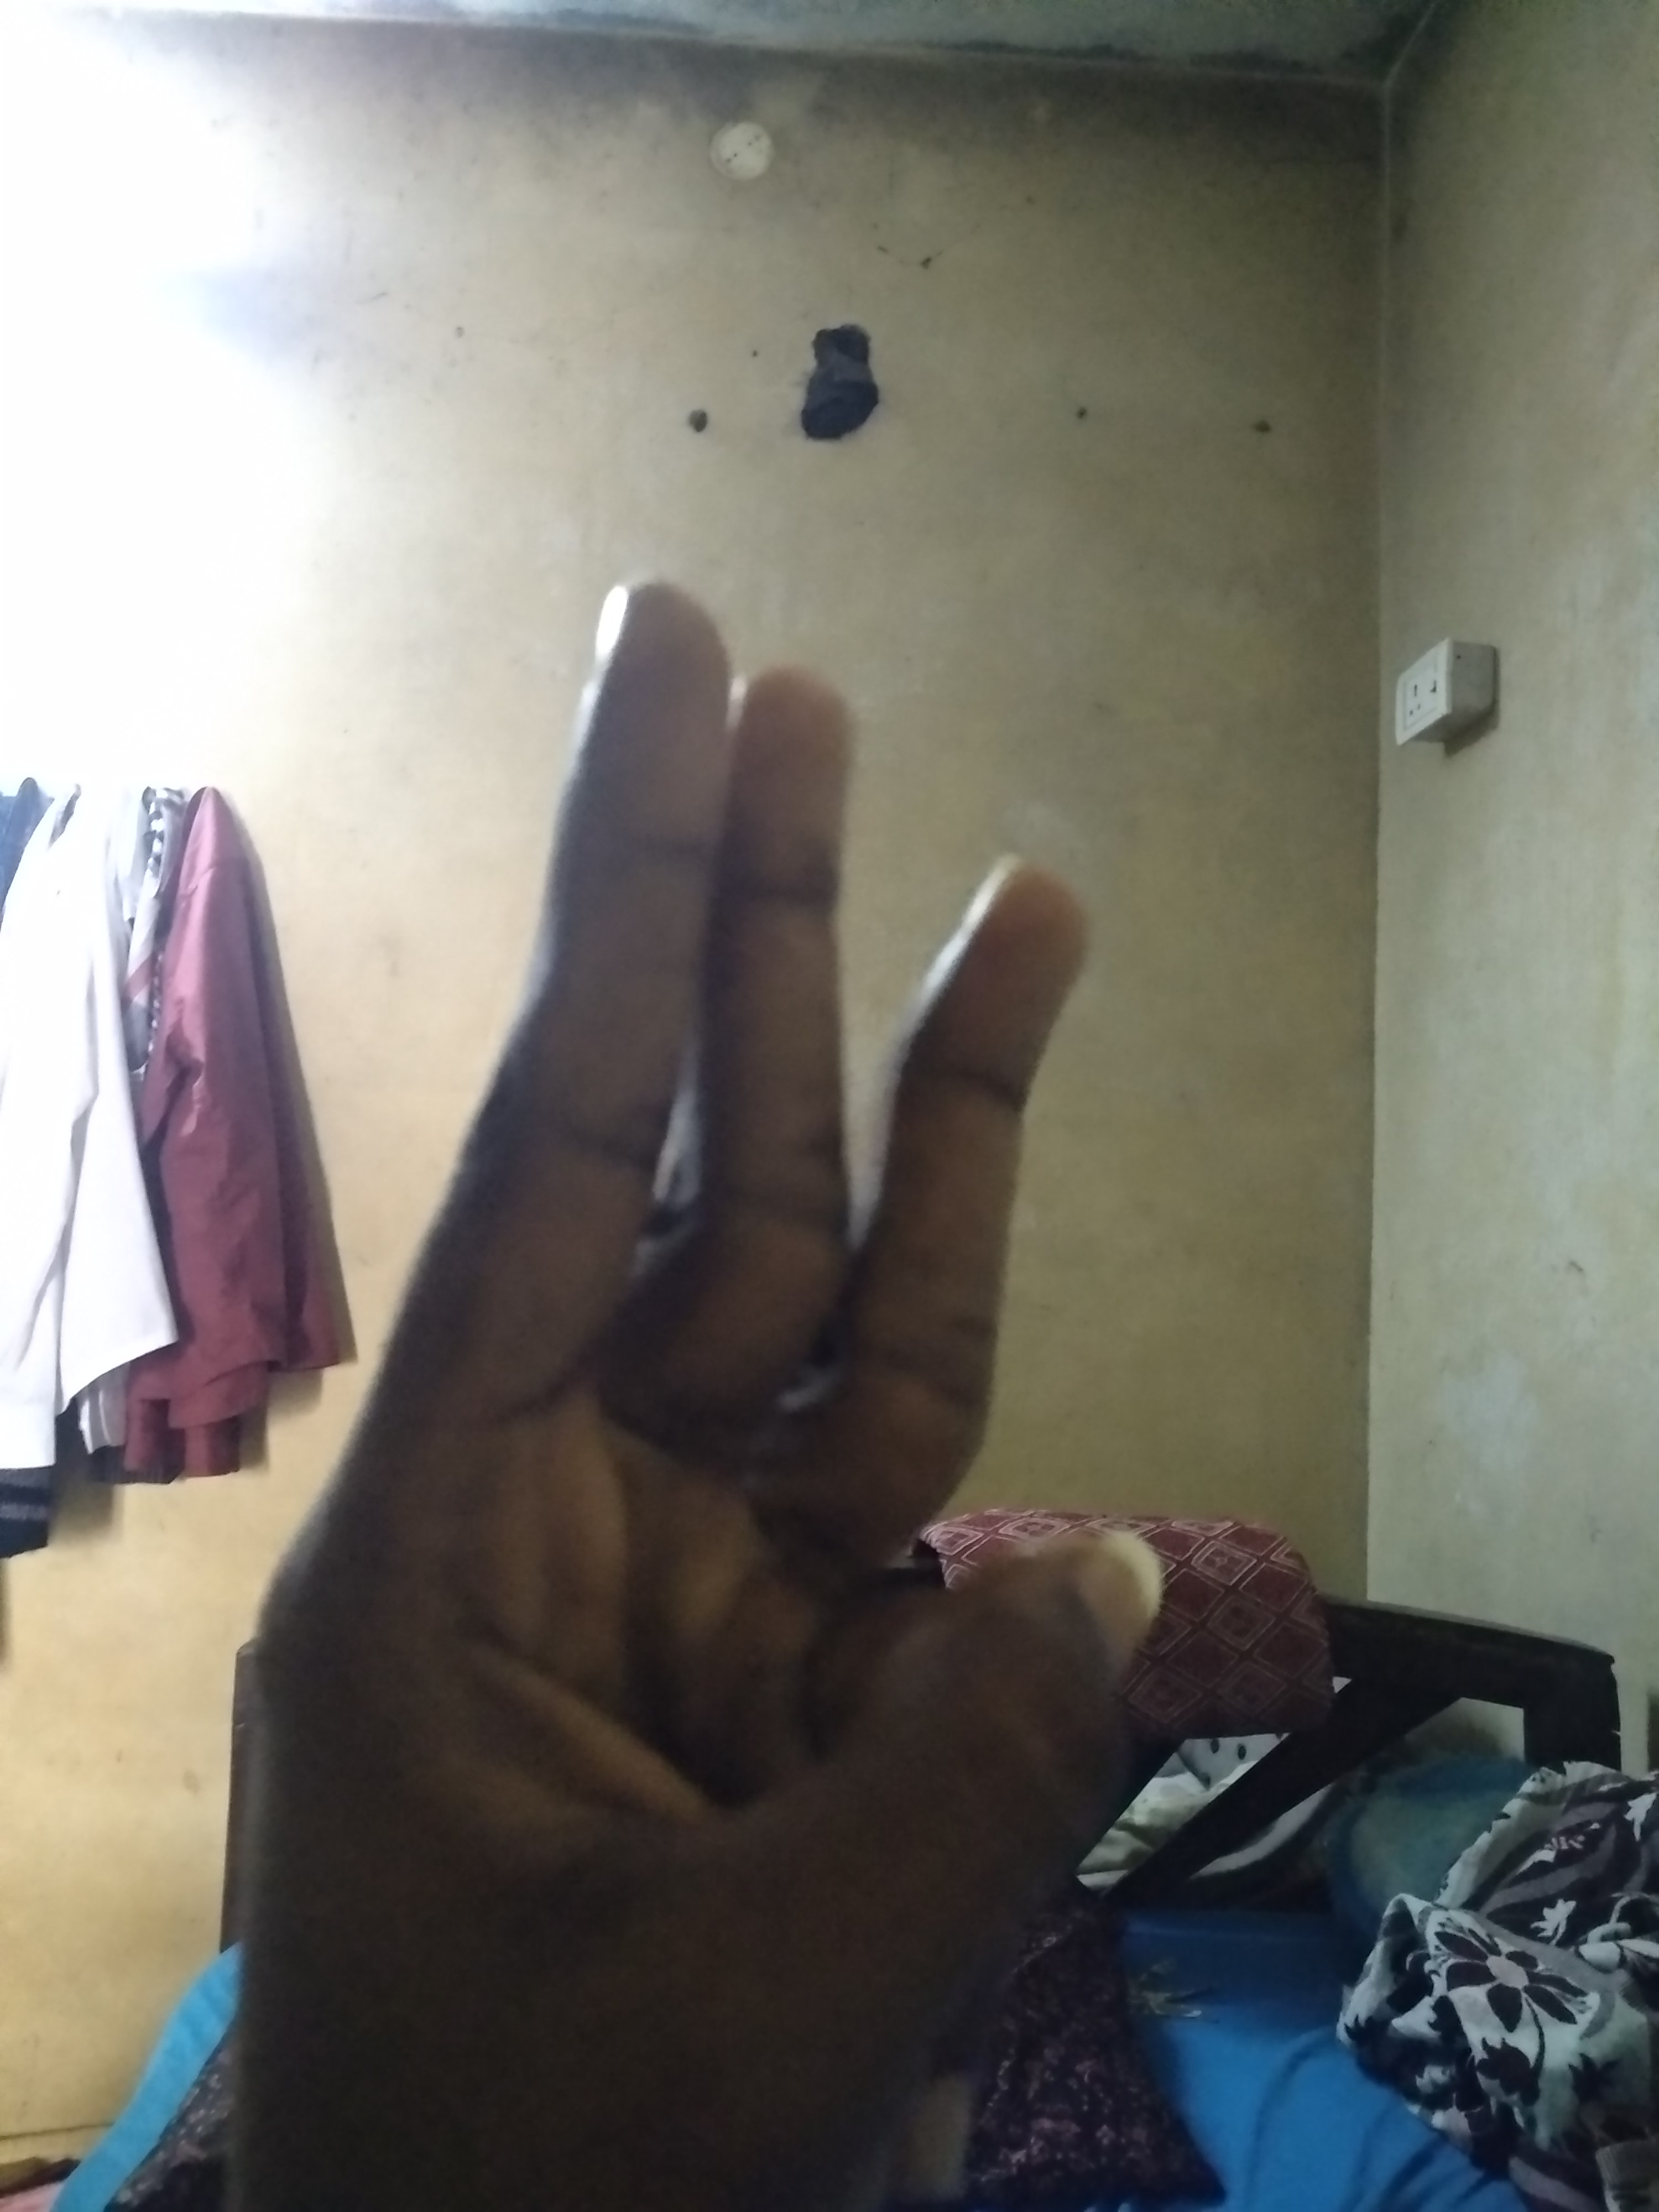three: (451, 599, 655, 968)
